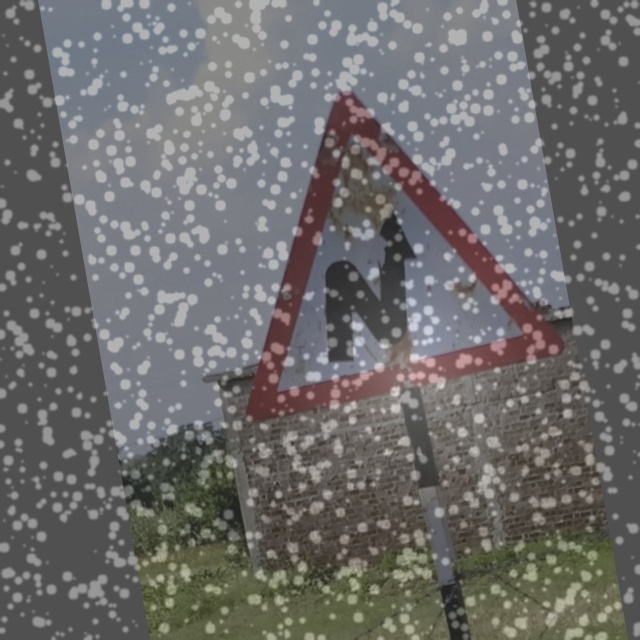Right_Reverse_Bend: (188, 60, 567, 412)
